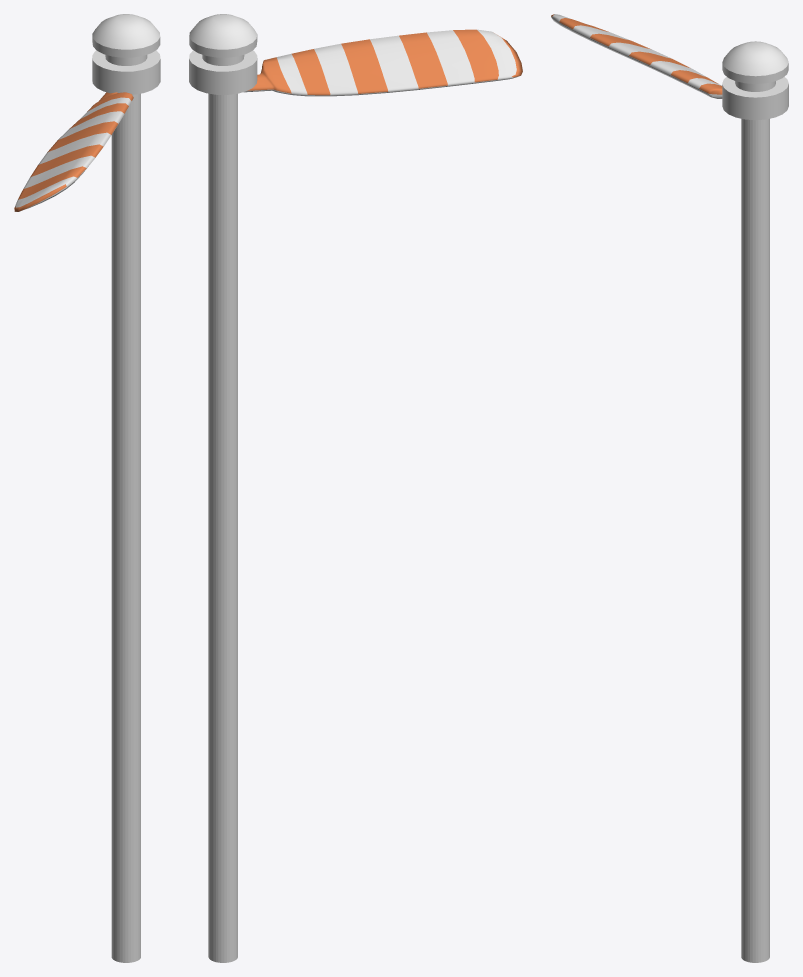
File: Air-Sprayer.fbx
The picture shows the model from 3 angles, left to right: view 1: azimuth 30°, elevation 25°; view 2: azimuth 150°, elevation 25°; view 3: azimuth 270°, elevation 25°; orthographic projection. The views are drawn at different scales.
Visible parts, largest first — view 1: Pole, Peller, Body.001, Body, Body.002; view 2: Pole, Peller, Body.001, Body; view 3: Pole, Body.001, Peller, Body, Body.002, Peller.002.
Boxes of the visible parts, x1=… form: Pole: x1=111, y1=93, x2=140, y2=962; Peller: x1=14, y1=92, x2=133, y2=211; Body.001: x1=92, y1=14, x2=160, y2=94; Body: x1=92, y1=35, x2=160, y2=94; Body.002: x1=92, y1=39, x2=159, y2=93; Pole: x1=208, y1=93, x2=237, y2=962; Peller: x1=247, y1=29, x2=522, y2=95; Body.001: x1=189, y1=14, x2=257, y2=94; Body: x1=189, y1=35, x2=257, y2=94; Pole: x1=741, y1=118, x2=769, y2=962; Body.001: x1=722, y1=41, x2=788, y2=118; Peller: x1=551, y1=14, x2=722, y2=94; Body: x1=722, y1=63, x2=788, y2=120; Body.002: x1=723, y1=64, x2=788, y2=119; Peller.002: x1=551, y1=17, x2=722, y2=98.
Bounding box in the file's own units: 203 × 774 × 183.
